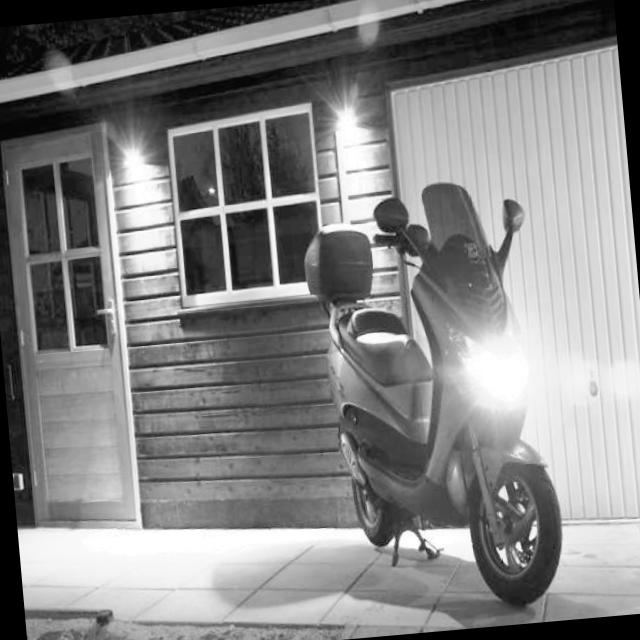Motorcycle: (254, 167, 594, 640)
